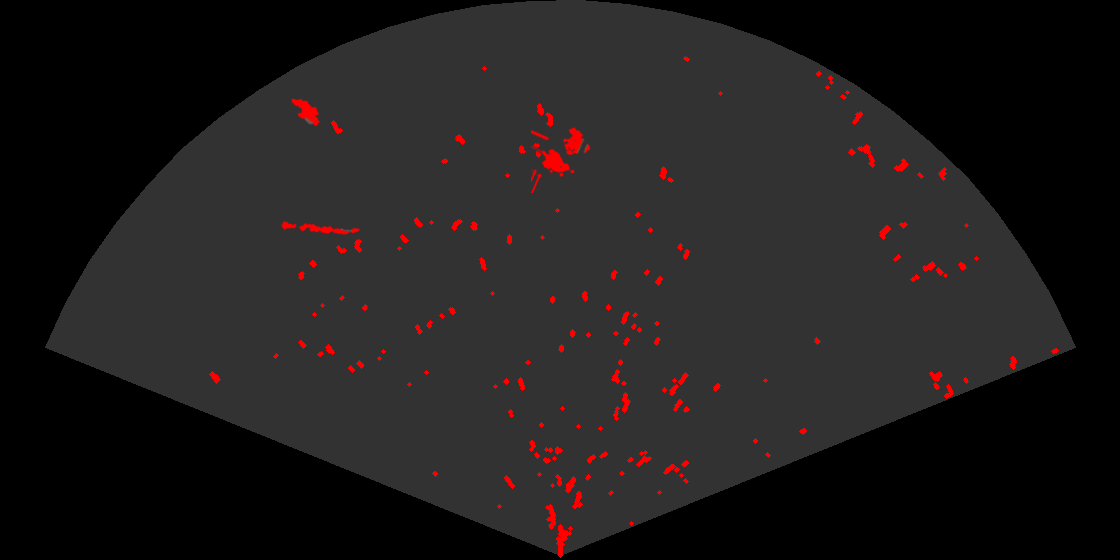AUV: (289, 97, 321, 128)
cage: (531, 125, 592, 193)
chain: (278, 220, 360, 237)
